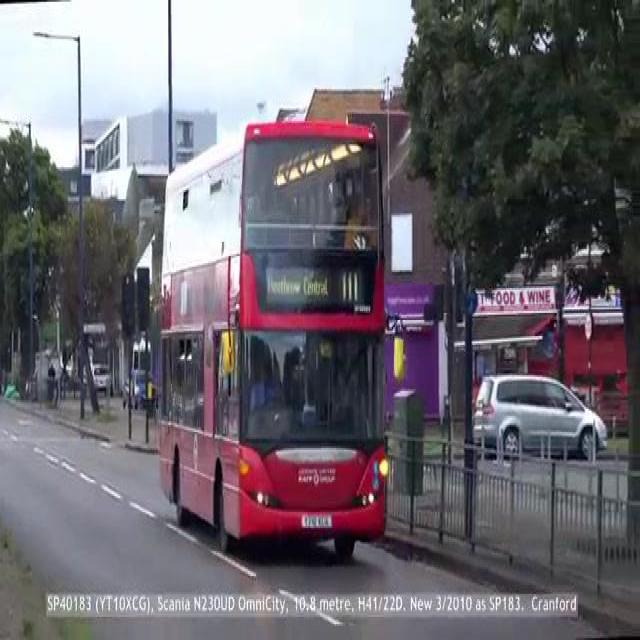motorcycle: (151, 116, 398, 550)
